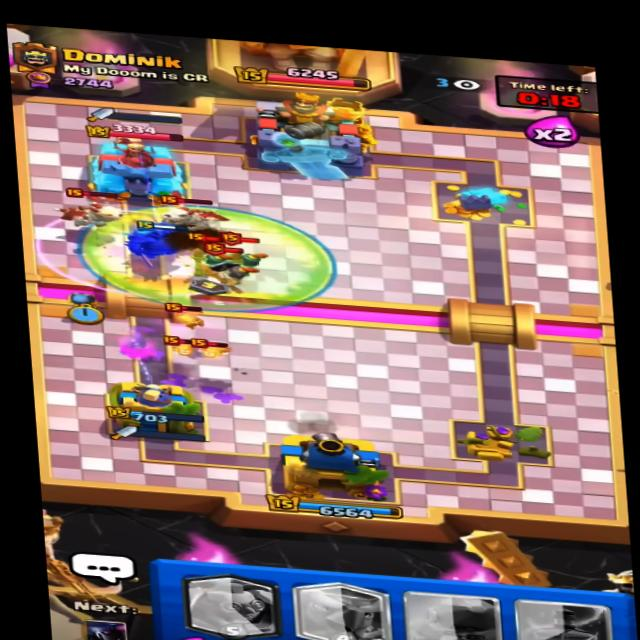Guards: (179, 243, 234, 286), (232, 237, 279, 285)
Skeletondragon: (152, 192, 220, 244), (59, 188, 128, 231)
